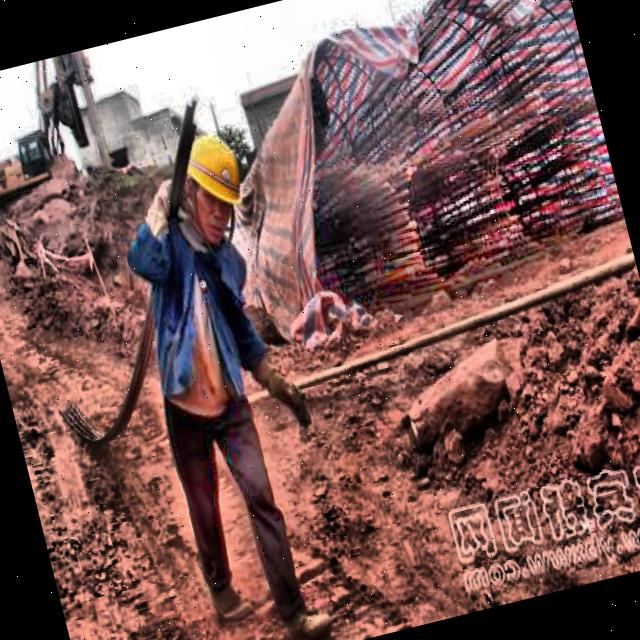helmet: (165, 123, 258, 252)
